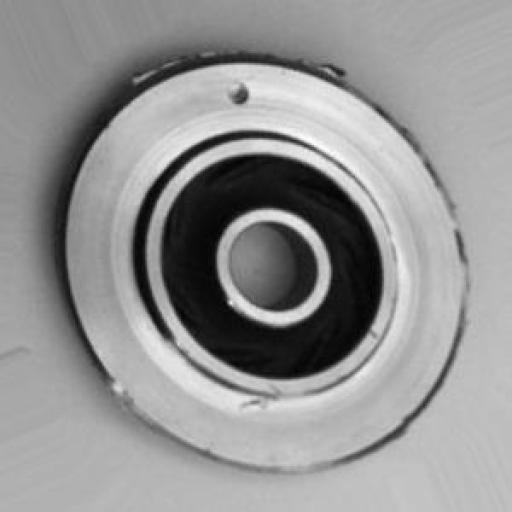defect: (28, 17, 489, 478)
